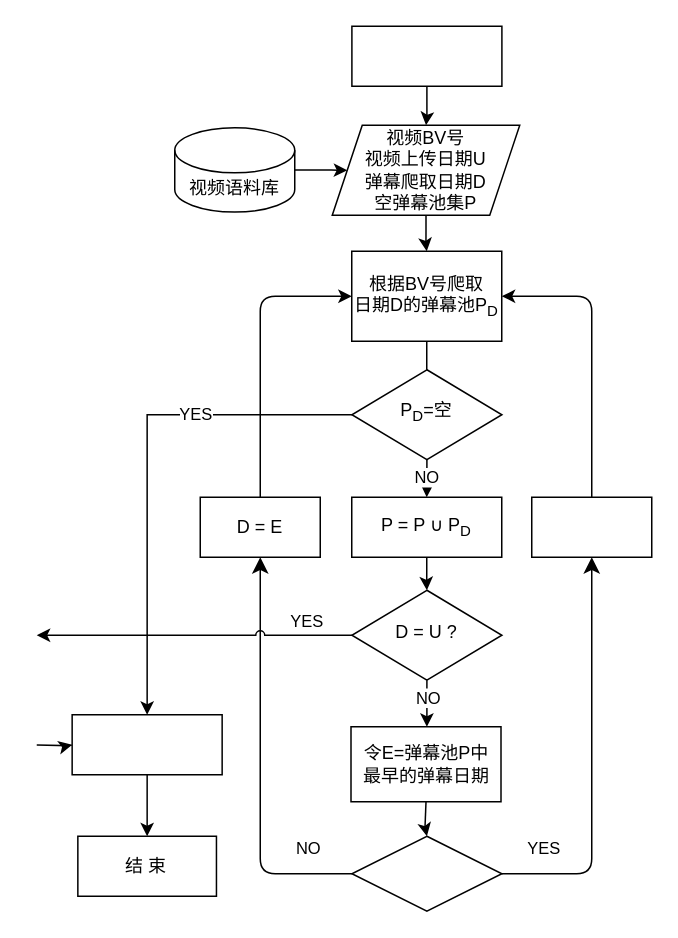
Image size: 678x938. Some labels were removed from this diagram. The box of each missing label's shape, as (x1, y1, x2, y2) in pixels:
D = D - 1天: (530, 496, 652, 557)
E >= D ?: (350, 835, 502, 911)
开始: (350, 25, 502, 86)
视频BV的总弹幕集P: (71, 713, 222, 775)
